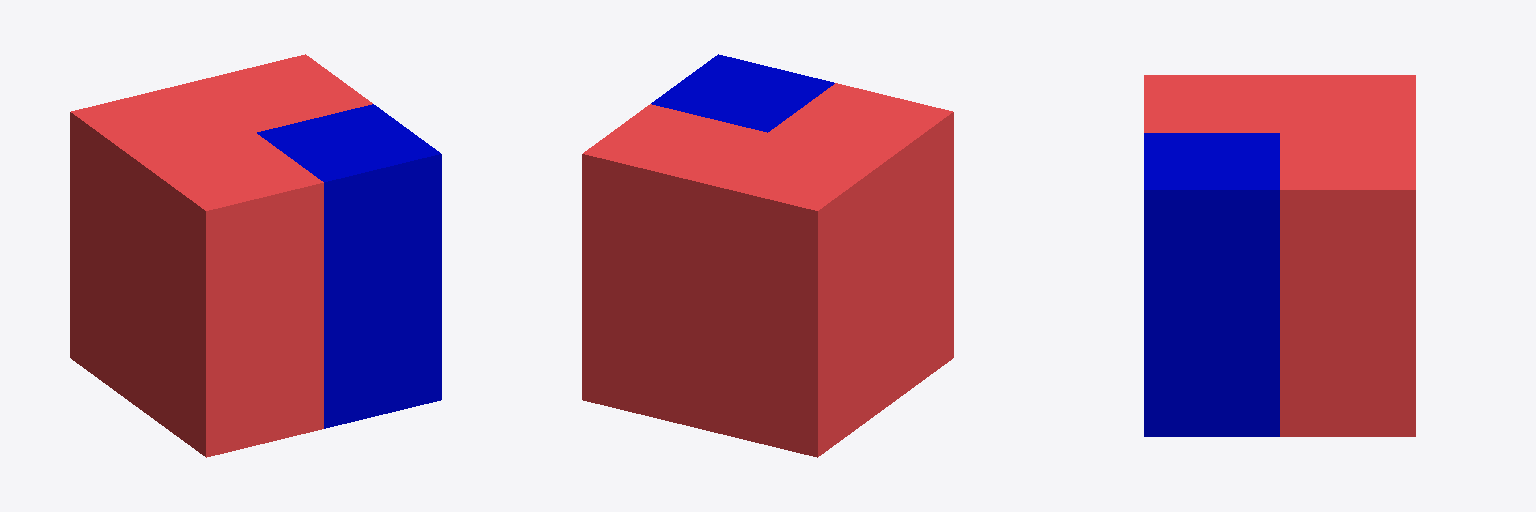
The picture shows the model from 3 angles: view 1: azimuth 30°, elevation 25°; view 2: azimuth 150°, elevation 25°; view 3: azimuth 270°, elevation 25°; orthographic projection.
Parts seen in each view (by area): view 1: object 1; view 2: object 1; view 3: object 1.
Part boxes in pixels (x1,y1,x2,y2): object 1: (70, 54, 441, 457); object 1: (582, 54, 953, 457); object 1: (1144, 75, 1415, 436).
Bounding box in the file's own units: 0.2 × 0.2 × 0.2.
1 materials, 1 textured.